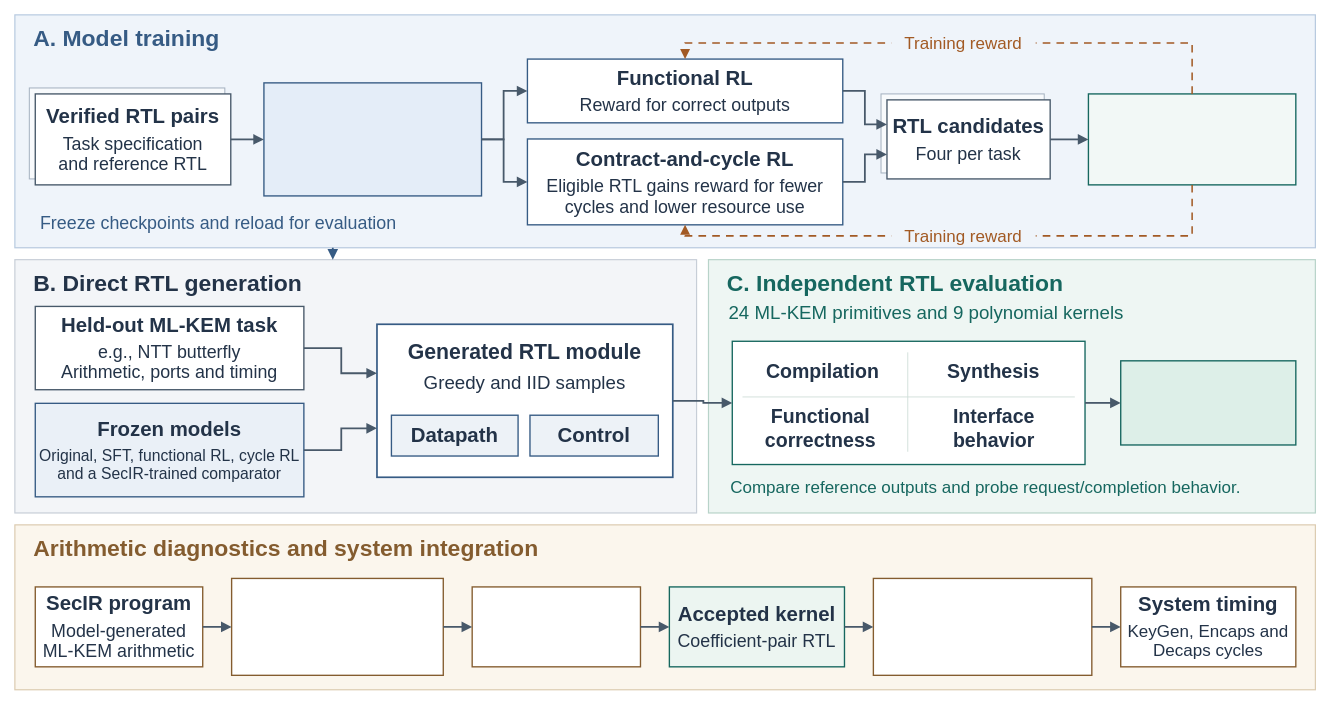
This 1331x706 diagram has some shape labels left out. Each missing label, with the box of its shape:
Accepted All four checks pass: (1120, 360, 1296, 445)
Arithmetic checks Signed 32-bit range Modular equivalence: (231, 577, 444, 676)
RTL compiler Schedule and emit kernel RTL: (471, 586, 641, 667)
Supervised RTL fine-tuning (SFT) CodeV-QC-7B Qwen2.5-72B-Instruct: (263, 82, 482, 196)
Training RTL checks Simulate outputs and interface behavior: (1087, 93, 1296, 185)
Trusted backend ML-KEM transforms, sampling, SHA3/SHAKE: (872, 577, 1092, 676)
